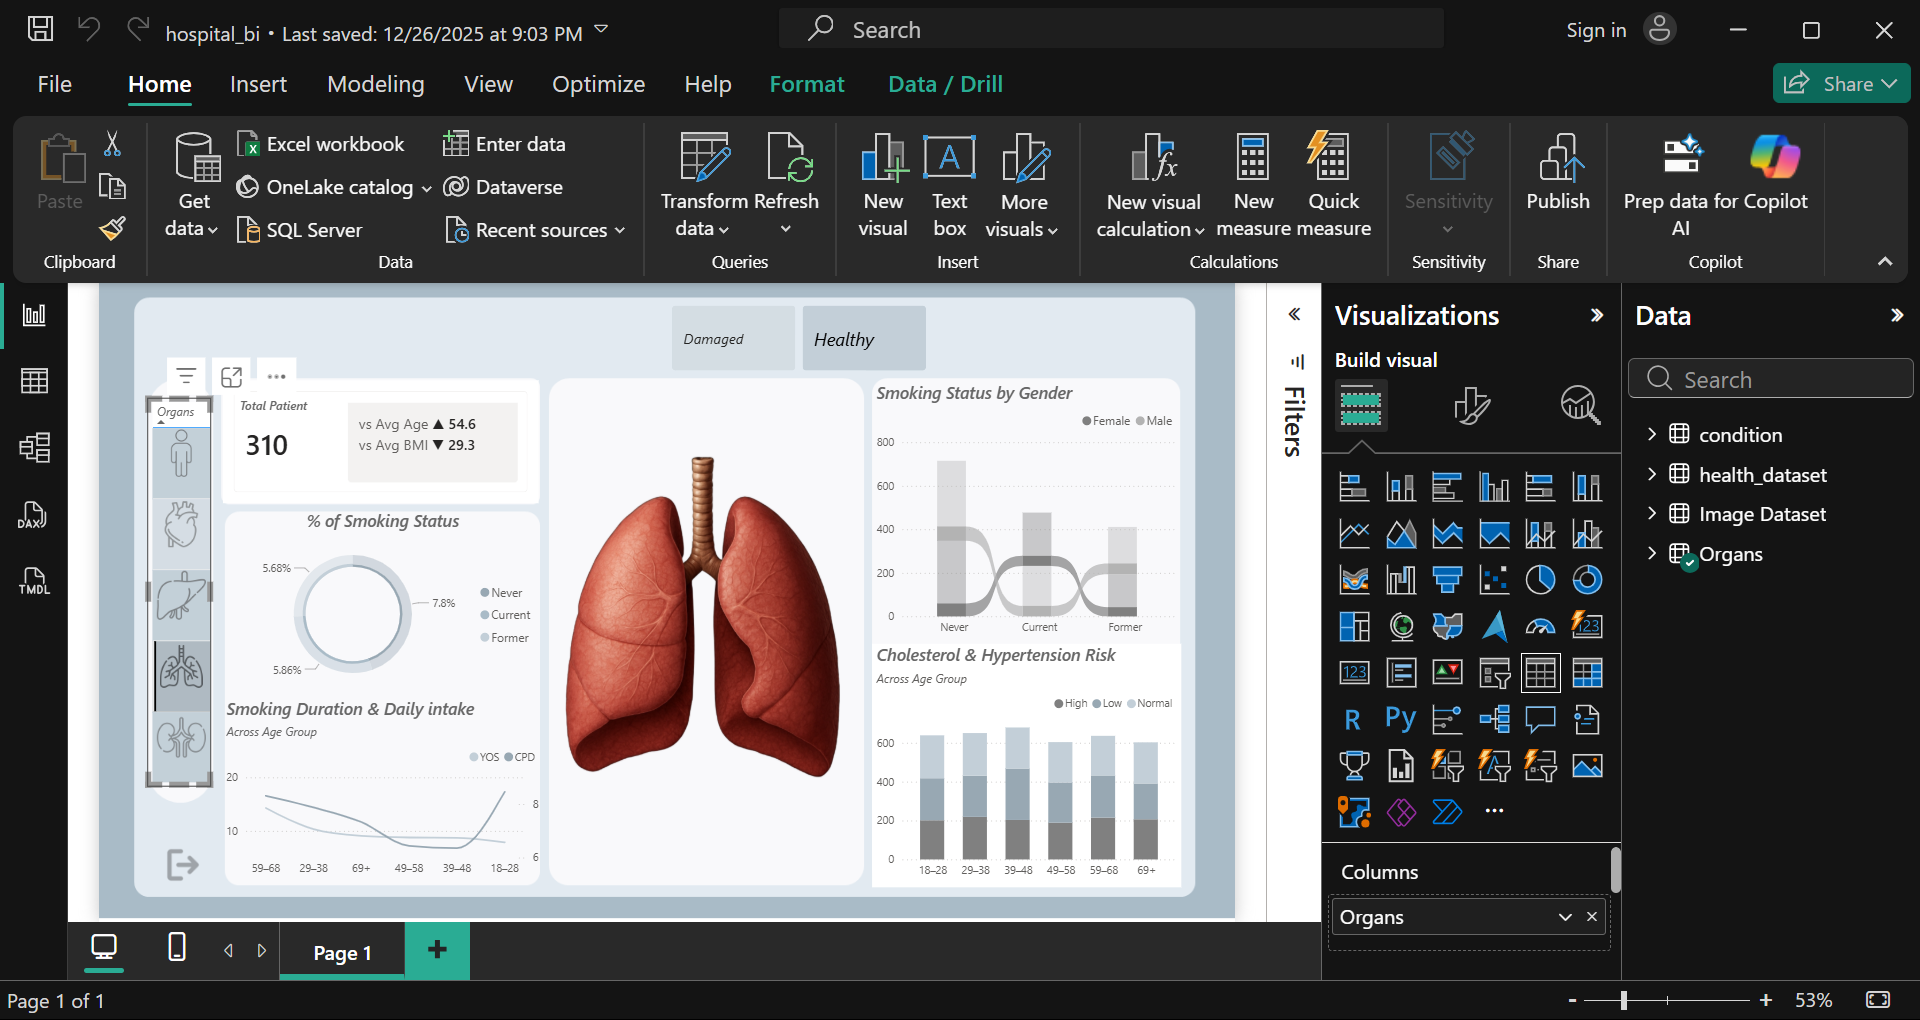

This screenshot's page, from the dashboard's own definition file:
{"tool":"powerbi","page":{"name":"Page 1","canvas":[1280,720],"ordinal":0},"visuals":[{"type":"cardVisual","fields":{"Data":["CountNonNull(health_dataset.Patient_ID)"]},"box":[134.2,104.1,365.7,148.1],"z":0},{"type":"textbox","box":[152.7,122.7,120.3,27.8],"z":1000},{"type":"advancedSlicerVisual","fields":{"Values":["condition.Organ_Condition"]},"box":[641.1,20.8,296.2,83.3],"z":2000},{"type":"tableEx","title":"Smoking Duration & Daily intake","fields":{"Values":["Organs.Icon_URL"]},"box":[55,128.6,71.4,439.3],"z":3000},{"type":"image","box":[499.9,104.9,363.2,574.8],"z":4000},{"type":"donutChart","title":"% of  Smoking Status","fields":{"Category":["health_dataset.Smoking_Status"],"Y":["CountNonNull(health_dataset.Smoking_Status)"]},"box":[138,254,362,212],"z":5000},{"type":"lineChart","title":"Smoking Duration & Daily intake","fields":{"Category":["health_dataset.Age Group"],"Y":["Avg(health_dataset.Years_of_Smoking)"],"Y2":["Avg(health_dataset.Cigarettes_Per_Day)"]},"box":[138,466,362,212],"z":6000},{"type":"ribbonChart","title":"Smoking Status by Gender","fields":{"Category":["health_dataset.Smoking_Status"],"Y":["CountNonNull(health_dataset.Patient_ID)"],"Series":["health_dataset.Gender"]},"box":[870,110,348,296],"z":7000},{"type":"columnChart","title":"Cholesterol & Hypertension Risk","fields":{"Category":["health_dataset.Age Group"],"Y":["Avg(health_dataset.Cholesterol_Level)"],"Series":["health_dataset.BP_Risk"]},"box":[870,406,348,274],"z":8000},{"type":"textbox","box":[66,216,52.8,27.8],"z":9000},{"type":"textbox","box":[70,298.6,44,29],"z":9001},{"type":"textbox","box":[55.7,375.7,78.6,32.9],"z":9002},{"type":"textbox","box":[66.2,452.5,52.5,28.8],"z":9003},{"type":"textbox","box":[60,530,72,28],"z":9004}]}

Visuals, with their boxes on the page's 1280x720 design canvas (x1, y1, x2, y2). These are canvas units, not pixel positions in the 1920x1020 screenshot, which may show the page scaled, cropped or inside an application window:
cardVisual - CountNonNull(health_dataset.Patient_ID): x1=134 y1=104 x2=500 y2=252
textbox: x1=153 y1=123 x2=273 y2=150
advancedSlicerVisual - condition.Organ_Condition: x1=641 y1=21 x2=937 y2=104
"Smoking Duration & Daily intake" tableEx: x1=55 y1=129 x2=126 y2=568
image: x1=500 y1=105 x2=863 y2=680
"% of  Smoking Status" donutChart: x1=138 y1=254 x2=500 y2=466
"Smoking Duration & Daily intake" lineChart: x1=138 y1=466 x2=500 y2=678
"Smoking Status by Gender" ribbonChart: x1=870 y1=110 x2=1218 y2=406
"Cholesterol & Hypertension Risk" columnChart: x1=870 y1=406 x2=1218 y2=680
textbox: x1=66 y1=216 x2=119 y2=244
textbox: x1=70 y1=299 x2=114 y2=328
textbox: x1=56 y1=376 x2=134 y2=409
textbox: x1=66 y1=452 x2=119 y2=481
textbox: x1=60 y1=530 x2=132 y2=558
